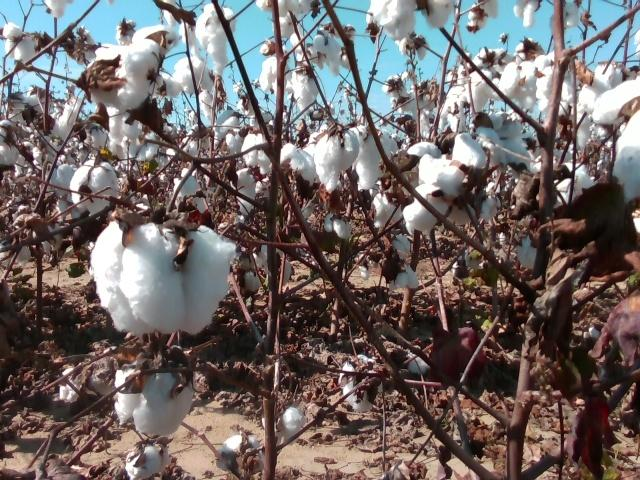cotton_ready: (90, 220, 236, 334), (403, 131, 489, 232), (115, 356, 196, 435), (87, 39, 162, 112), (344, 125, 399, 189), (594, 74, 640, 146), (476, 112, 531, 169), (615, 110, 640, 235), (314, 127, 360, 193), (196, 5, 237, 76), (239, 246, 292, 297), (70, 160, 119, 214), (552, 162, 606, 211), (536, 52, 577, 113), (338, 354, 380, 413), (579, 60, 625, 113), (493, 61, 538, 110), (554, 107, 593, 160), (280, 131, 319, 183), (366, 0, 417, 39), (215, 434, 266, 472), (172, 169, 210, 220), (465, 68, 502, 118), (48, 162, 82, 215), (261, 403, 303, 442), (125, 445, 171, 480), (172, 57, 215, 94), (132, 24, 182, 55), (439, 85, 471, 132), (291, 66, 322, 114), (107, 106, 143, 146), (241, 132, 274, 175), (231, 167, 261, 214), (121, 126, 159, 162), (316, 27, 343, 77), (10, 94, 49, 127), (516, 220, 541, 270), (259, 57, 293, 93), (3, 23, 36, 60), (370, 192, 403, 229), (547, 2, 579, 34), (466, 49, 515, 69), (422, 0, 455, 29), (32, 222, 63, 252), (515, 36, 547, 65), (0, 120, 19, 166), (183, 125, 212, 155), (0, 240, 32, 267), (387, 263, 419, 289), (323, 211, 352, 239), (216, 107, 240, 140), (255, 0, 302, 16), (515, 1, 539, 28)
